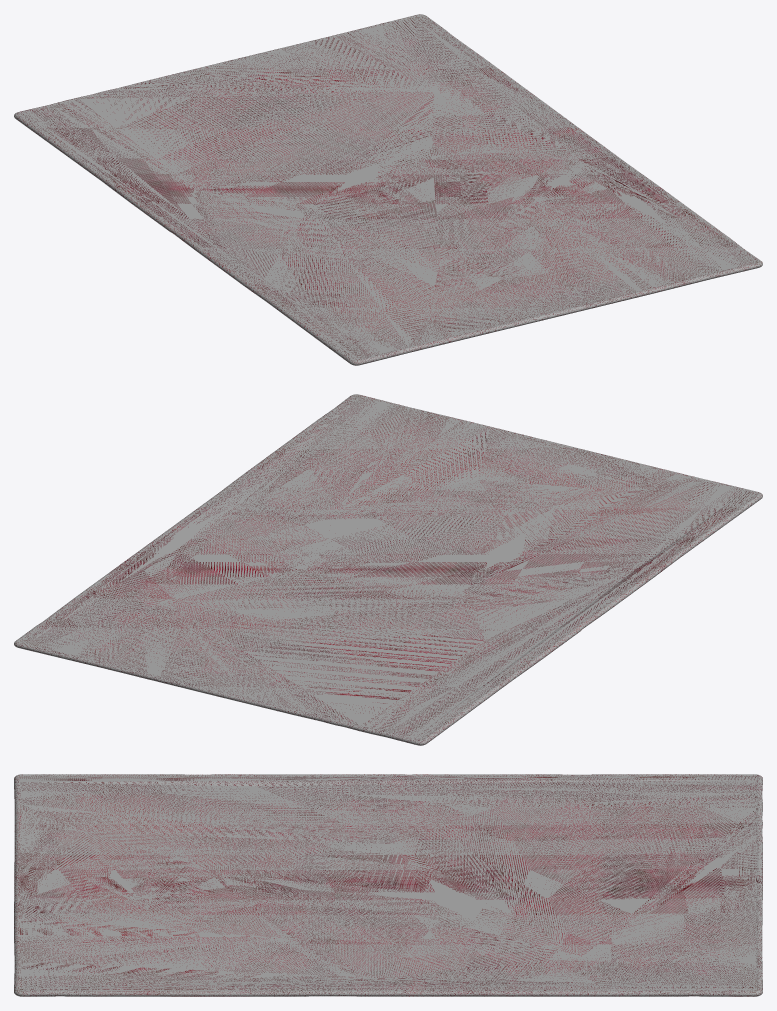
File: carpet.fbx
The picture shows the model from 3 angles, top to bottom: view 1: azimuth 30°, elevation 25°; view 2: azimuth 150°, elevation 25°; view 3: azimuth 270°, elevation 25°; orthographic projection. The views are drawn at different scales.
Visible parts, largest first — view 1: SketchUp_1; view 2: SketchUp_1; view 3: SketchUp_1.
Part boxes in pixels (left/top/right/bottom): SketchUp_1: left=14, top=14, right=762, bottom=365; SketchUp_1: left=14, top=394, right=762, bottom=745; SketchUp_1: left=14, top=774, right=762, bottom=996.
Bounding box in the file's own units: 80.63 × 0.8701 × 116.
Materials: 2 (2 with a texture image).
